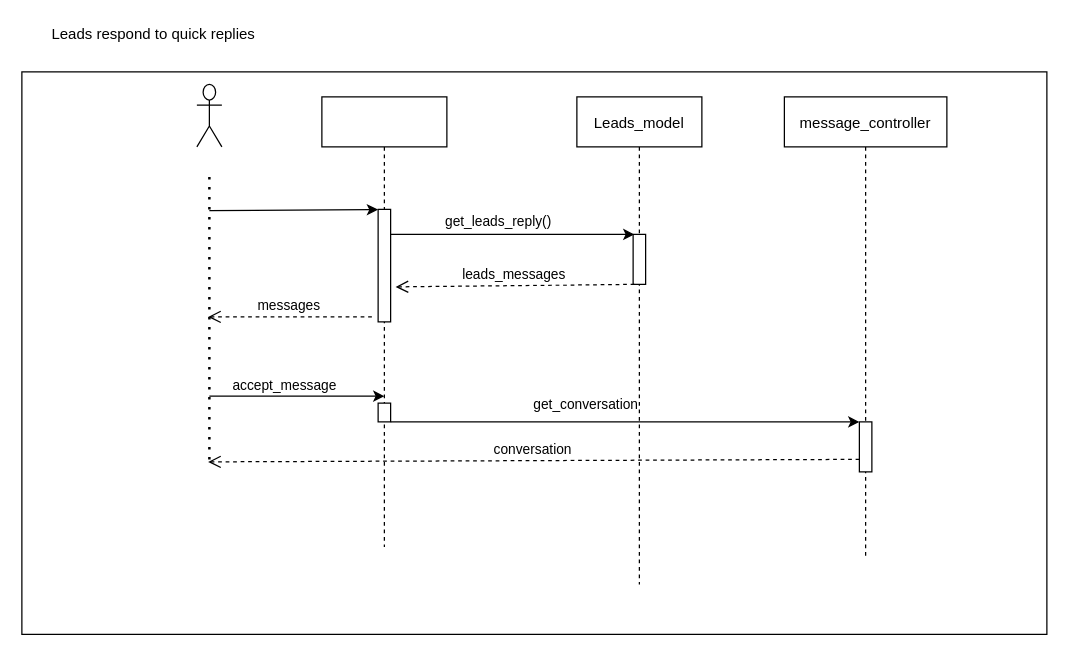
The diagram is 1069 pixels wide and 656 high, and some of its shapes have lost their labels. The shapes that lost their labels are listed below. From the top down, each one's centre as x and y in pixels, then its label:
At point 209,115: "Actor".
At point 384,321: "Leads_controller".
